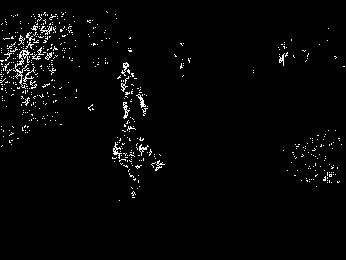person: (110, 115, 165, 198), (116, 60, 149, 118)
